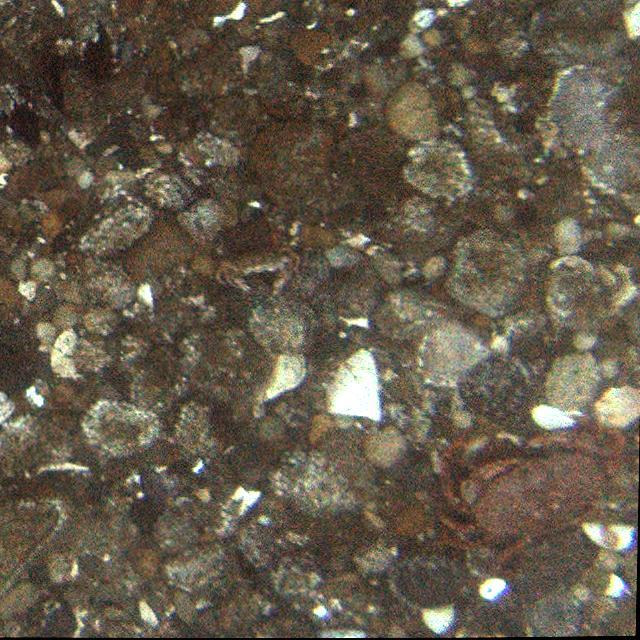crab: (435, 420, 621, 568)
